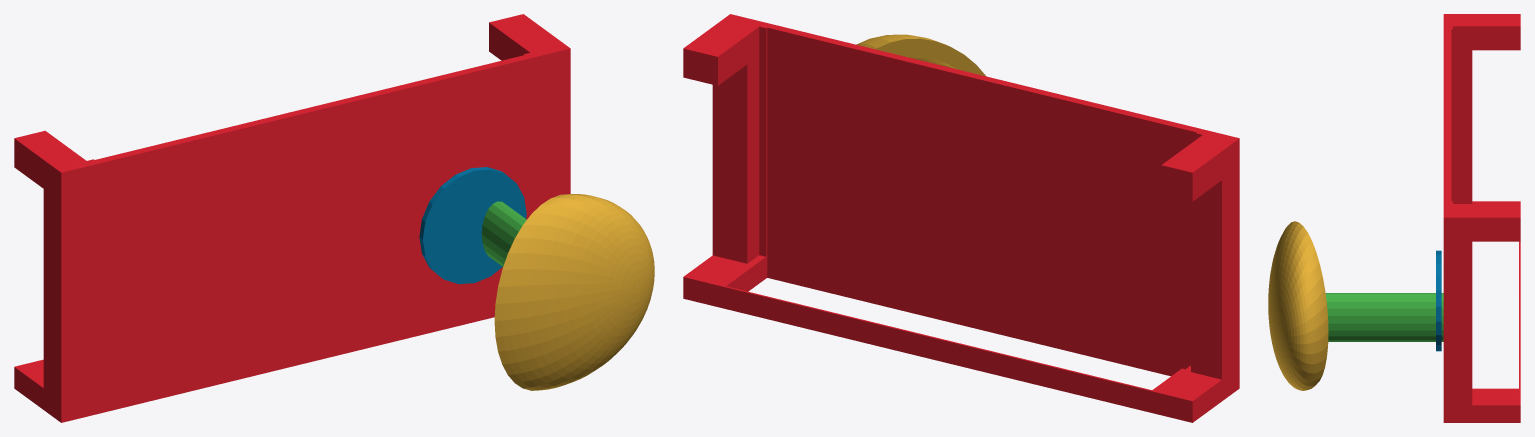
File: tinker.obj
3 renders of one model, left to right at view 1: azimuth 30°, elevation 25°; view 2: azimuth 150°, elevation 25°; view 3: azimuth 270°, elevation 25°, orthographic. The views are drawn at different scales.
Parts seen in each view (by area): view 1: group_0_15277357, group_0_14789940, group_0_30377, group_0_4634441; view 2: group_0_15277357, group_0_14789940; view 3: group_0_15277357, group_0_14789940, group_0_4634441, group_0_30377.
Boxes of the visible parts, left/top/right/bottom form: group_0_15277357: left=14, top=14, right=570, bottom=422; group_0_14789940: left=494, top=194, right=654, bottom=390; group_0_30377: left=419, top=167, right=526, bottom=284; group_0_4634441: left=481, top=201, right=526, bottom=266; group_0_15277357: left=683, top=14, right=1239, bottom=422; group_0_14789940: left=856, top=34, right=985, bottom=76; group_0_15277357: left=1443, top=14, right=1520, bottom=422; group_0_14789940: left=1268, top=221, right=1328, bottom=390; group_0_4634441: left=1325, top=293, right=1443, bottom=341; group_0_30377: left=1436, top=250, right=1441, bottom=351.
Bounding box in the file's own units: 147 × 69 × 77.
